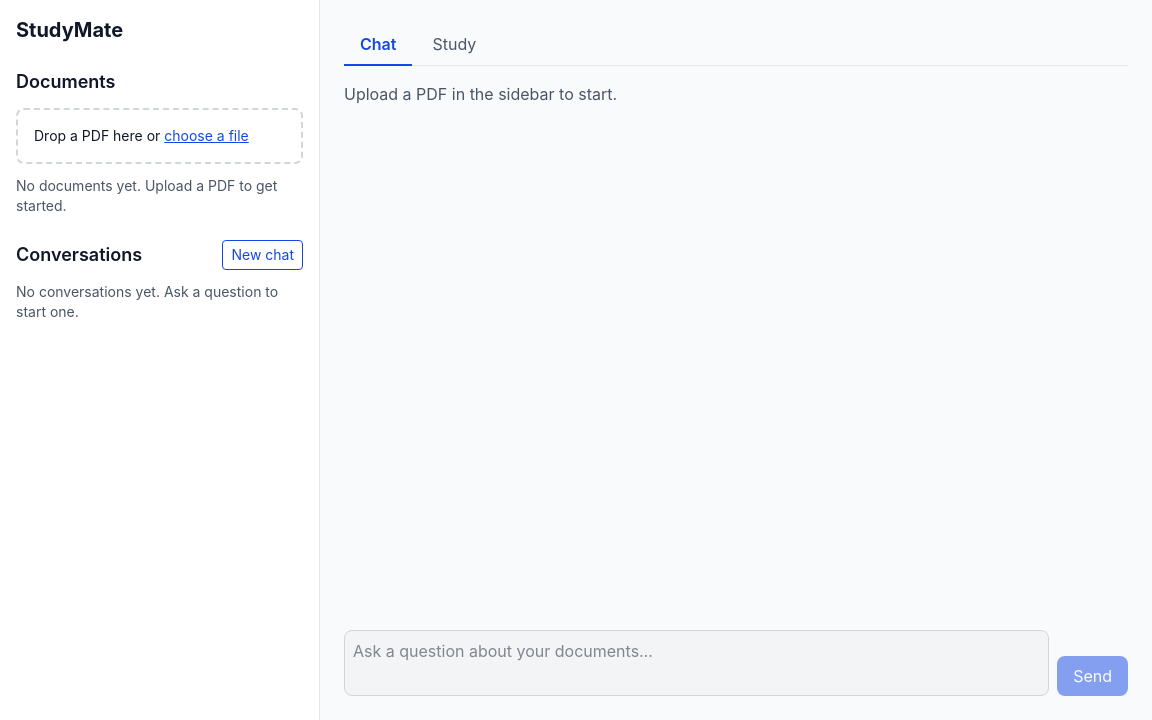
App › asks for an upload first when there are no documents
The width and height of the screenshot is (1152, 720).
Expected: the text "Upload a PDF in the sidebar to start." is shown, [344,84,617,104]
Expected: the text box named "Your question" is disabled, [344,630,1049,696]
Click the tab "Study" at (454, 45), box [416,24,492,66]
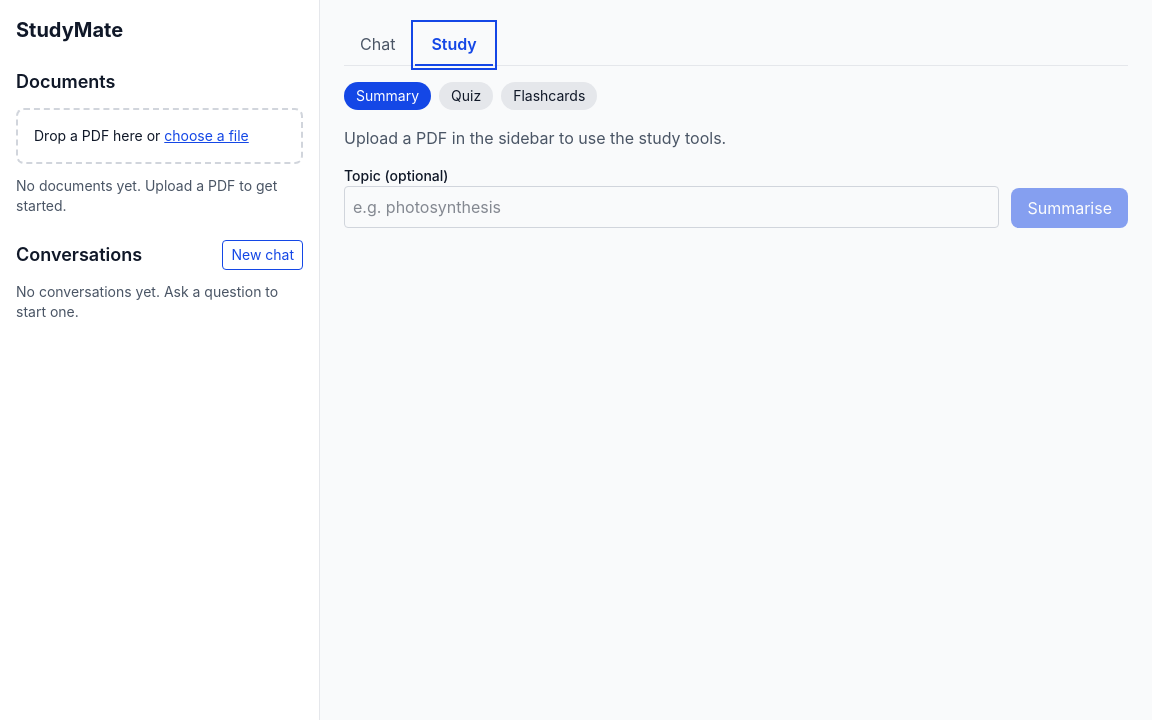
Expected: the button "Summarise" is disabled, [1011,188,1128,228]
Expected: the text "Upload a PDF in the sidebar to use the study tools." is shown, [344,128,726,148]
